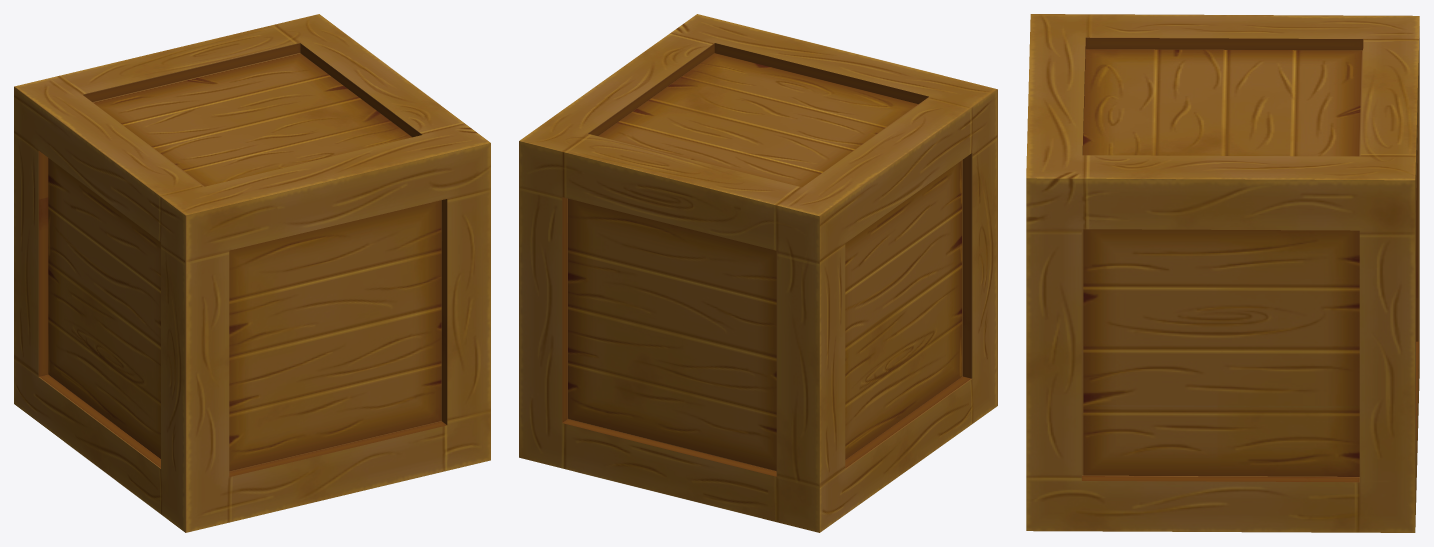
File: nova2_box.obj
3 views of the same model, side by side, from view 1: azimuth 30°, elevation 25°; view 2: azimuth 150°, elevation 25°; view 3: azimuth 270°, elevation 25° (orthographic). The views are drawn at different scales.
Visible parts, largest first — view 1: Box_low; view 2: Box_low; view 3: Box_low.
Boxes of the visible parts, x1,y1,x2,y2 form: Box_low: (14,14,490,532); Box_low: (519,14,997,532); Box_low: (1026,14,1419,532).
Size of the model in its own units: 1.52 by 1.5 by 1.52.
1 material, 1 textured.
